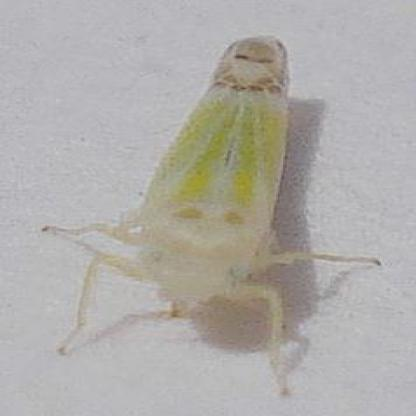green-leafhopper: (70, 37, 341, 370)
